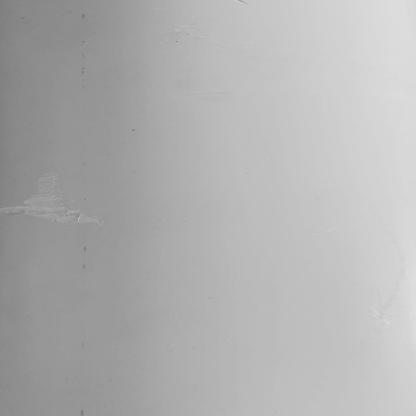sunshang: (1, 172, 109, 225)
